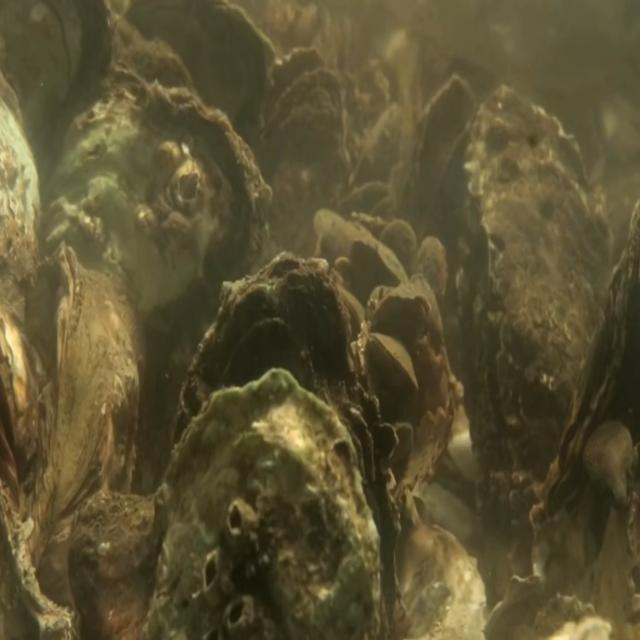Oyster-Closed: (42, 76, 270, 484), (167, 249, 398, 640), (455, 82, 610, 523), (144, 366, 383, 640), (522, 192, 640, 590), (368, 330, 418, 394), (374, 286, 432, 334)
Oyster-Indeterminate: (29, 240, 141, 640), (398, 72, 476, 304), (347, 233, 407, 287), (378, 216, 420, 288), (414, 234, 448, 309)
Oyster-Open: (254, 44, 350, 248)
